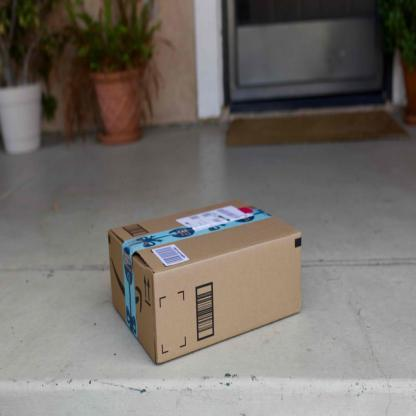package: (106, 198, 304, 367)
